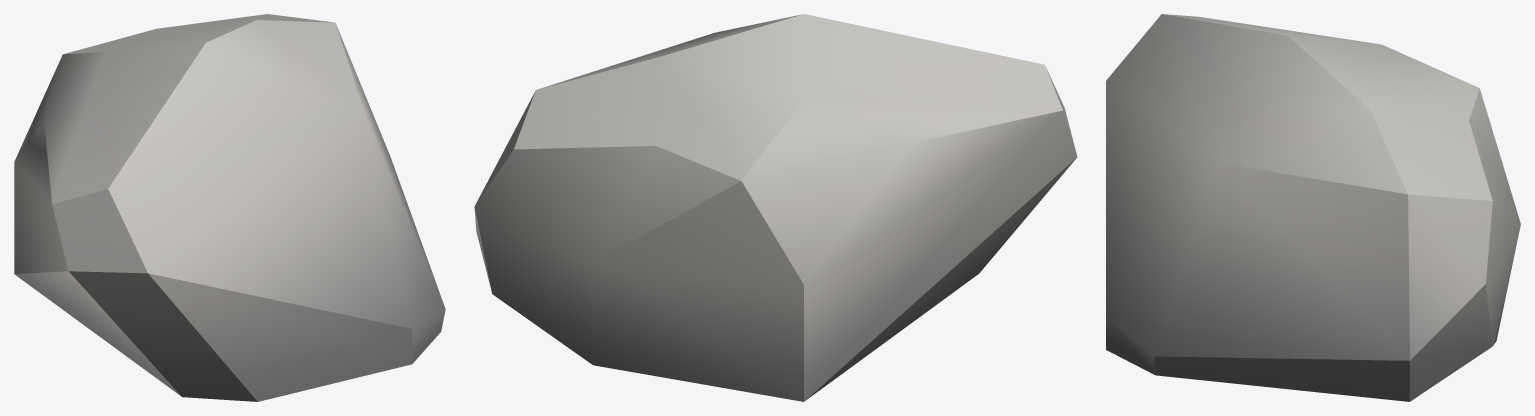
The model's file is StoneSource3.fbx.
3 renders of one model, left to right at view 1: azimuth 30°, elevation 25°; view 2: azimuth 150°, elevation 25°; view 3: azimuth 270°, elevation 25°, orthographic. The views are drawn at different scales.
Visible parts, largest first — view 1: StoneSource3_LOD0; view 2: StoneSource3_LOD0; view 3: StoneSource3_LOD0.
Boxes of the visible parts, box(x1,y1,x2,y2) form: StoneSource3_LOD0: box(14, 14, 445, 401); StoneSource3_LOD0: box(474, 14, 1077, 401); StoneSource3_LOD0: box(1106, 14, 1520, 401).
Size of what is drawn, in the model's own units: 2.71 by 1.6 by 2.29.
